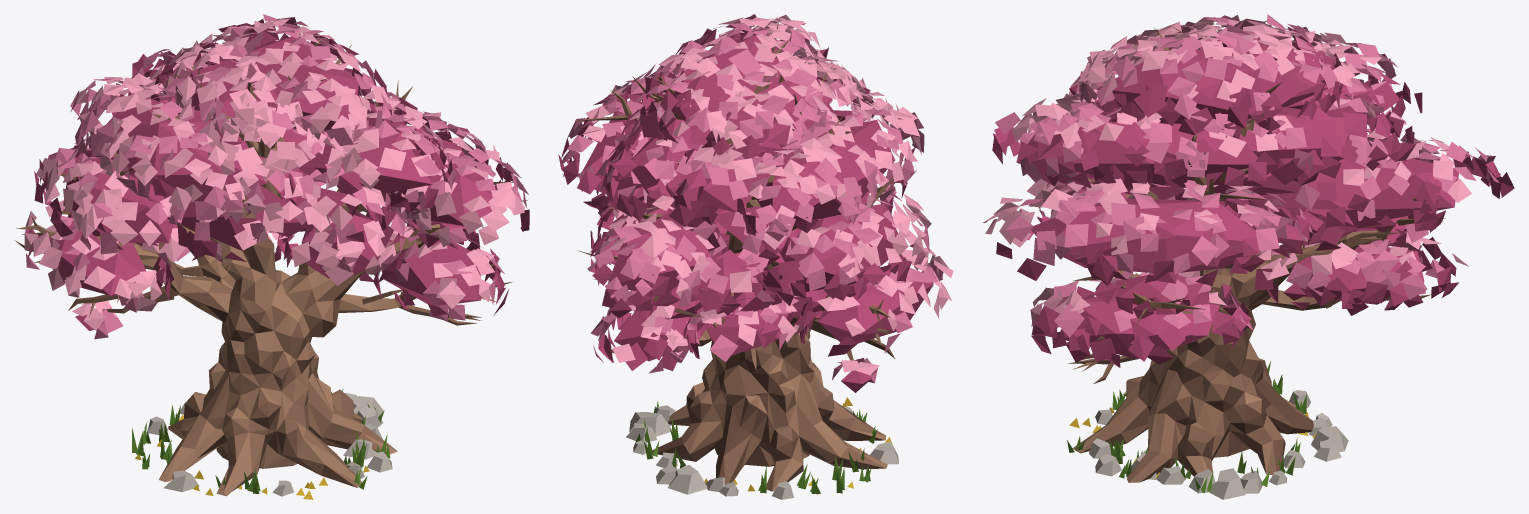
File: giant_cherry_bloom.glb
3 views of the same model, side by side, from view 1: azimuth 30°, elevation 25°; view 2: azimuth 150°, elevation 25°; view 3: azimuth 270°, elevation 25° (orthographic). The views are drawn at different scales.
Visible parts, largest first — view 1: giant_cherry_bloom; view 2: giant_cherry_bloom; view 3: giant_cherry_bloom.
Part boxes in pixels (x1,y1,x2,y2): giant_cherry_bloom: [14, 14, 529, 499]; giant_cherry_bloom: [558, 14, 953, 499]; giant_cherry_bloom: [983, 14, 1514, 499].
Size of the model in its own units: 26.63 by 25.82 by 29.66.
